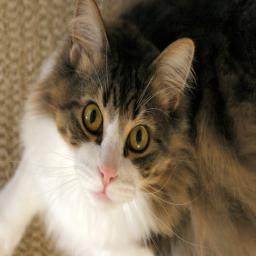catnose: (99, 164, 118, 189)
